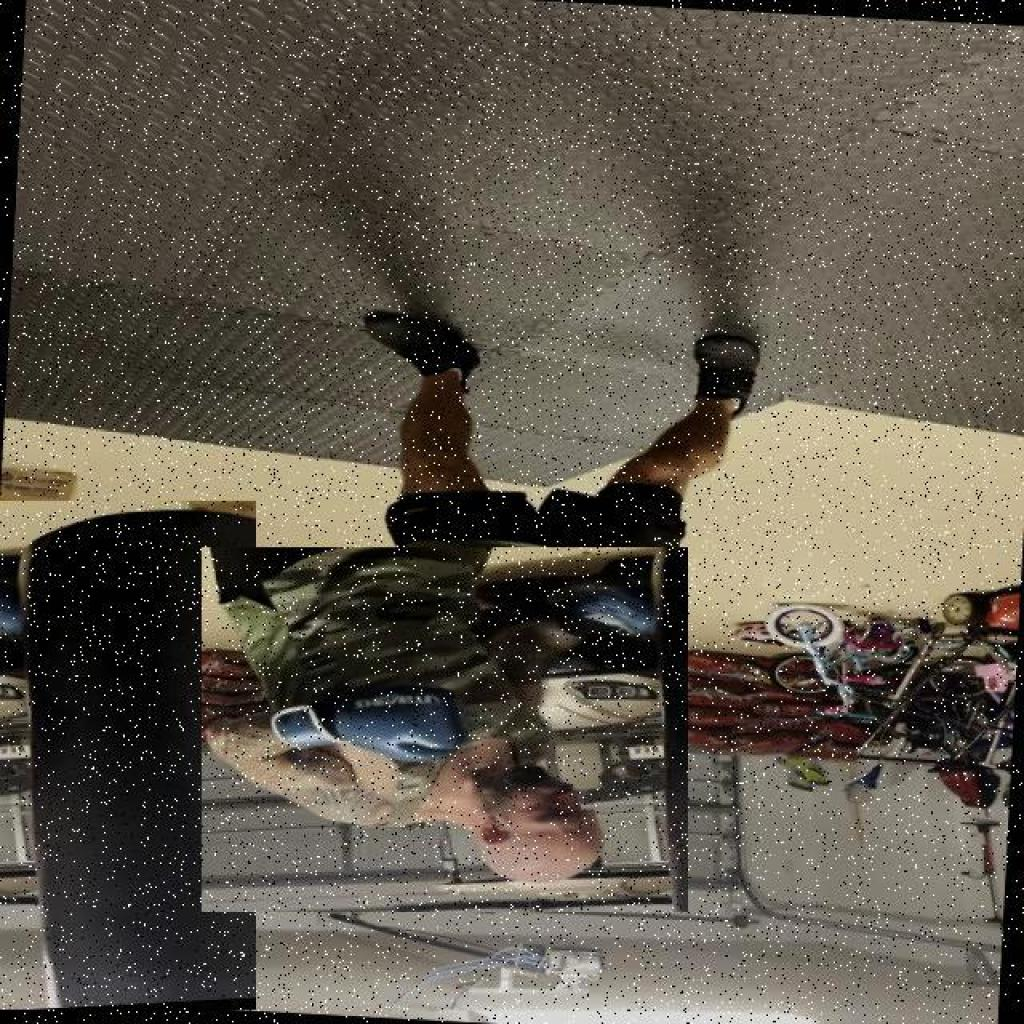bag: (0, 500, 255, 1010)
uppercut: (202, 547, 687, 913)
